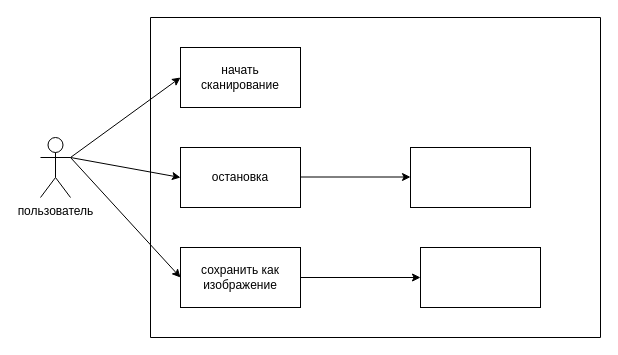
Some shapes in this 618 by 355 pixel diagram are drawn without their labels. Each missing label, with the centre of its shape:
остановка сканирования: point 470,177
сохранение карты в виде изображения: point 480,277
